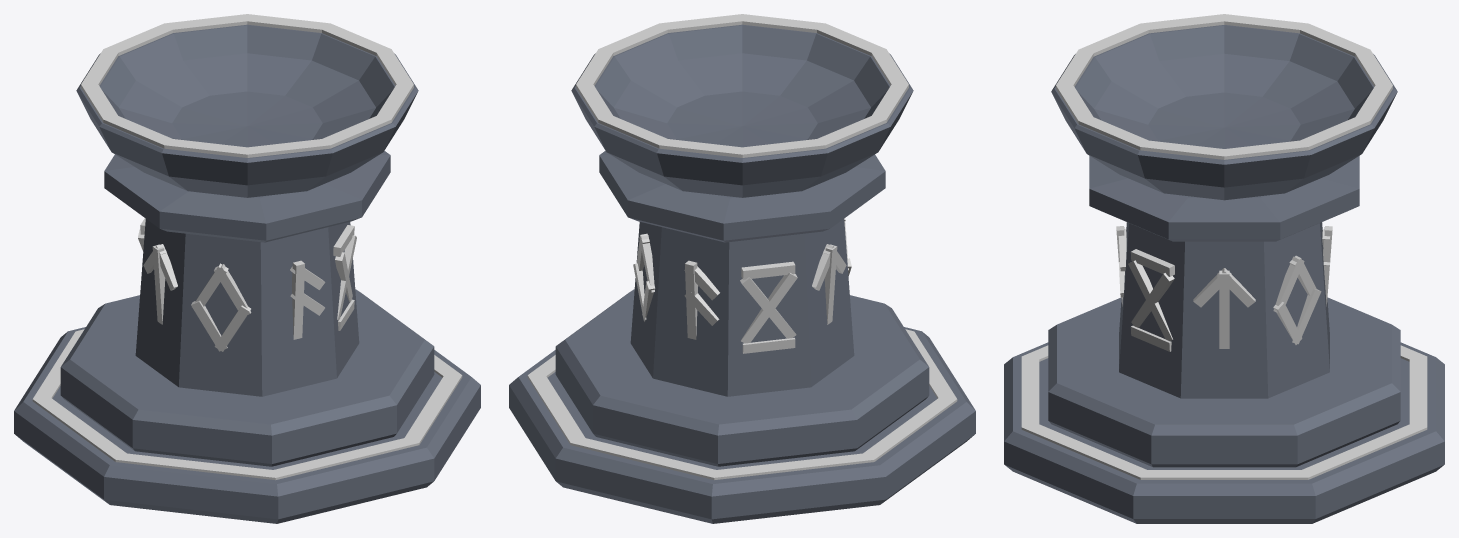
File: Altar.fbx
The picture shows the model from 3 angles, left to right: view 1: azimuth 30°, elevation 25°; view 2: azimuth 150°, elevation 25°; view 3: azimuth 270°, elevation 25°; orthographic projection.
Parts seen in each view (by area): view 1: Altar; view 2: Altar; view 3: Altar.
Boxes of the visible parts, x1,y1,x2,y2 form: Altar: (14,14,480,523); Altar: (509,14,975,523); Altar: (1004,14,1444,523).
Bounding box in the file's own units: 1.39 × 1.21 × 1.39.
